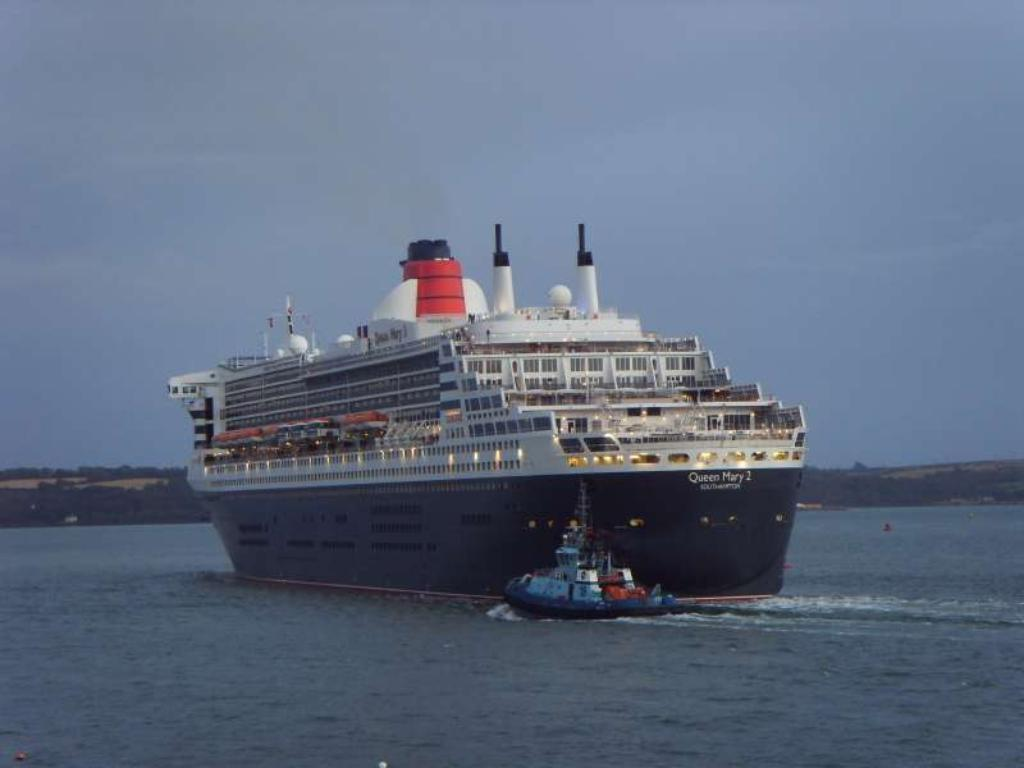PassengerShip: (173, 202, 813, 600)
